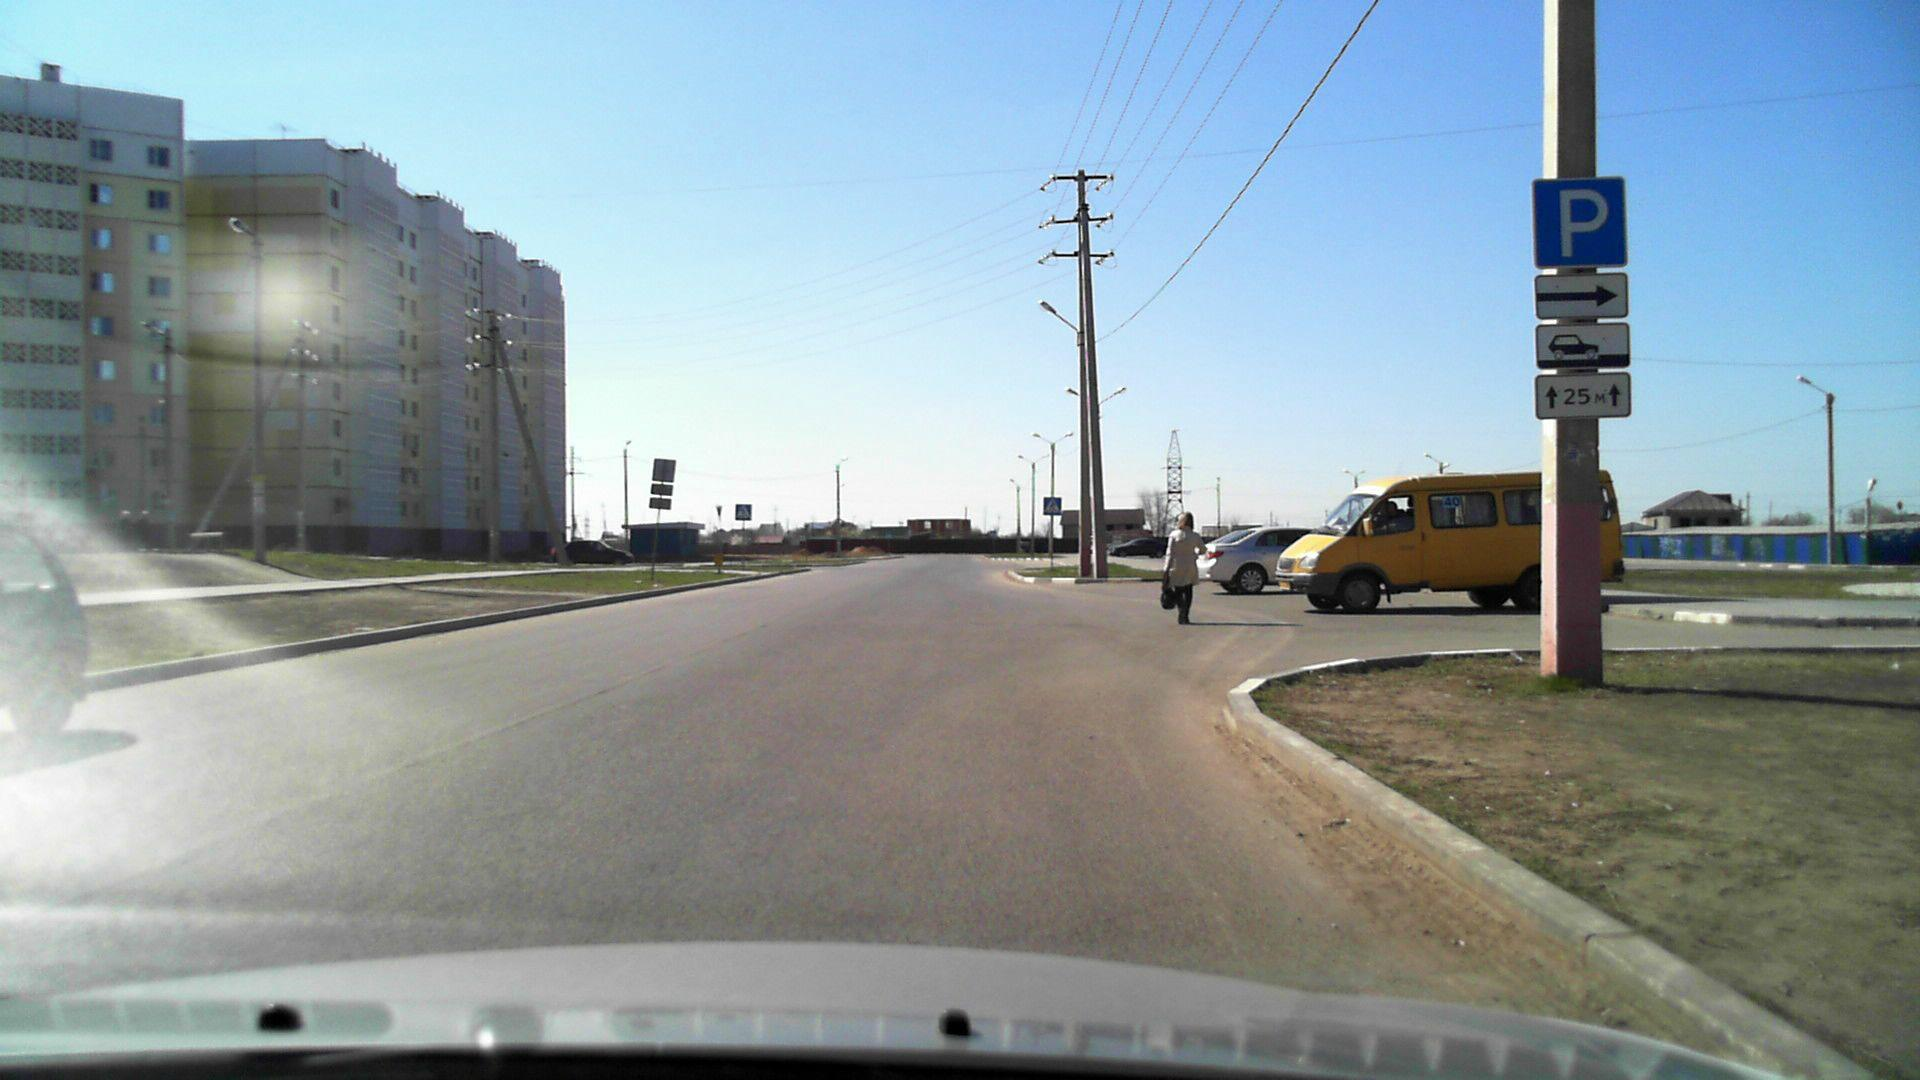5_19_1: (1044, 498, 1063, 514)
5_19_2: (737, 504, 753, 521)
6_4: (1531, 175, 1630, 269)
8_2_1: (1536, 376, 1633, 418)
8_3_1: (1534, 276, 1629, 319)
8_6_5: (1535, 323, 1630, 367)
